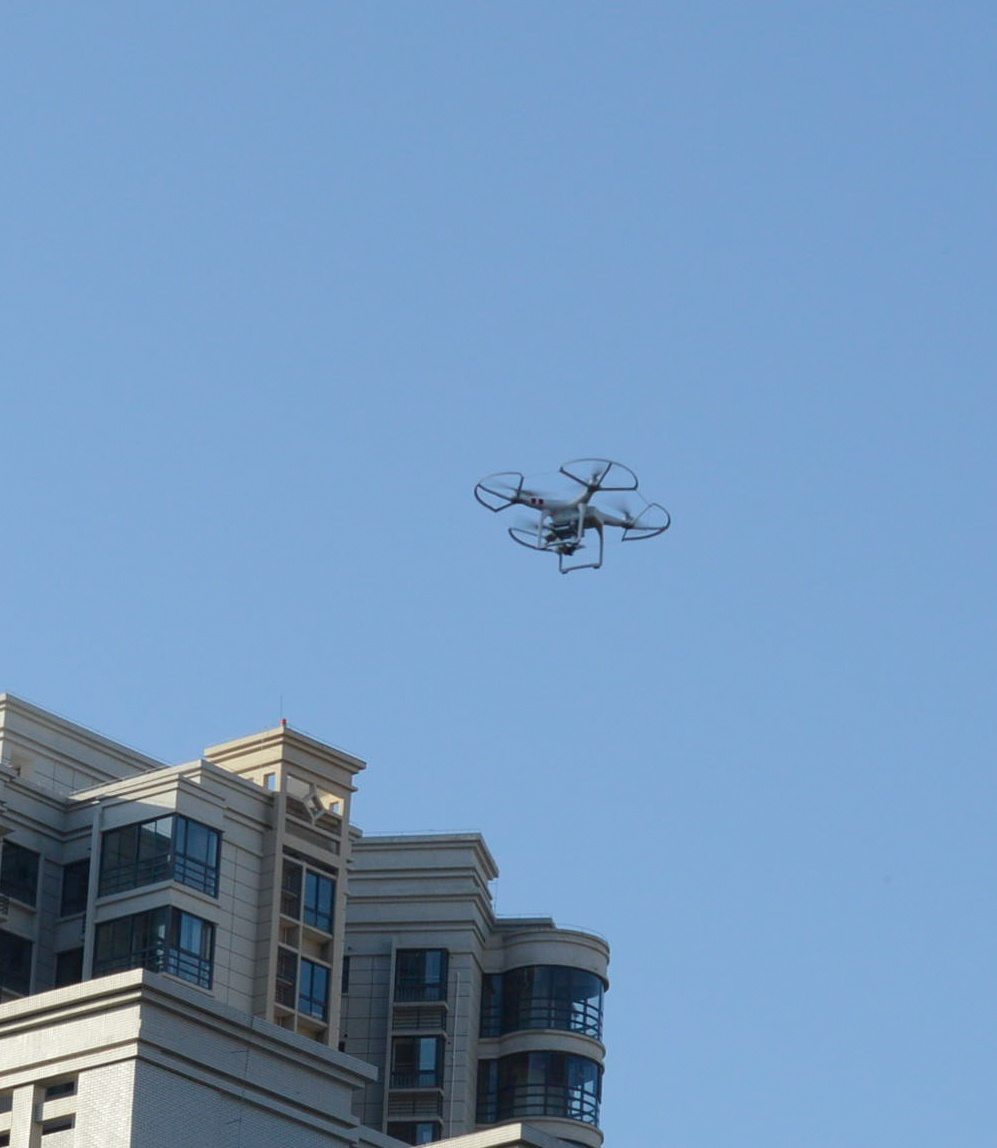DJI: (472, 459, 672, 574)
